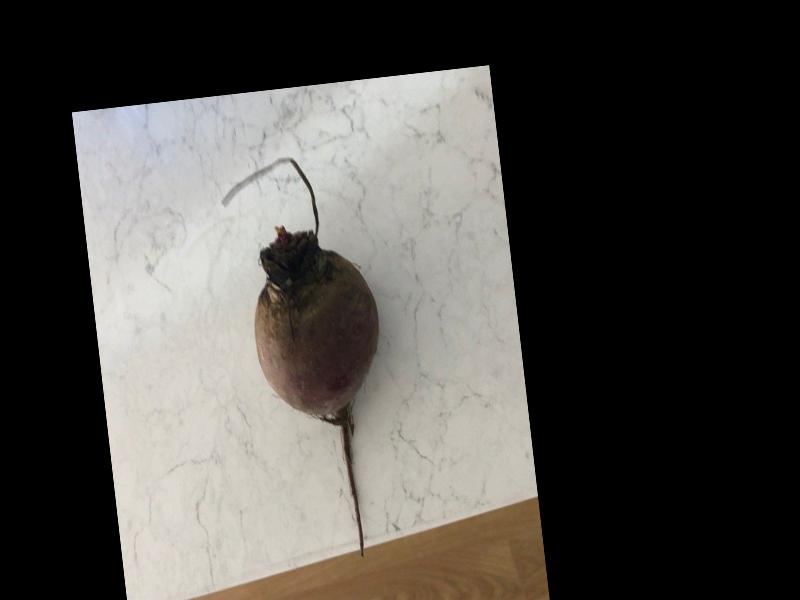Beet: (219, 151, 404, 569)
